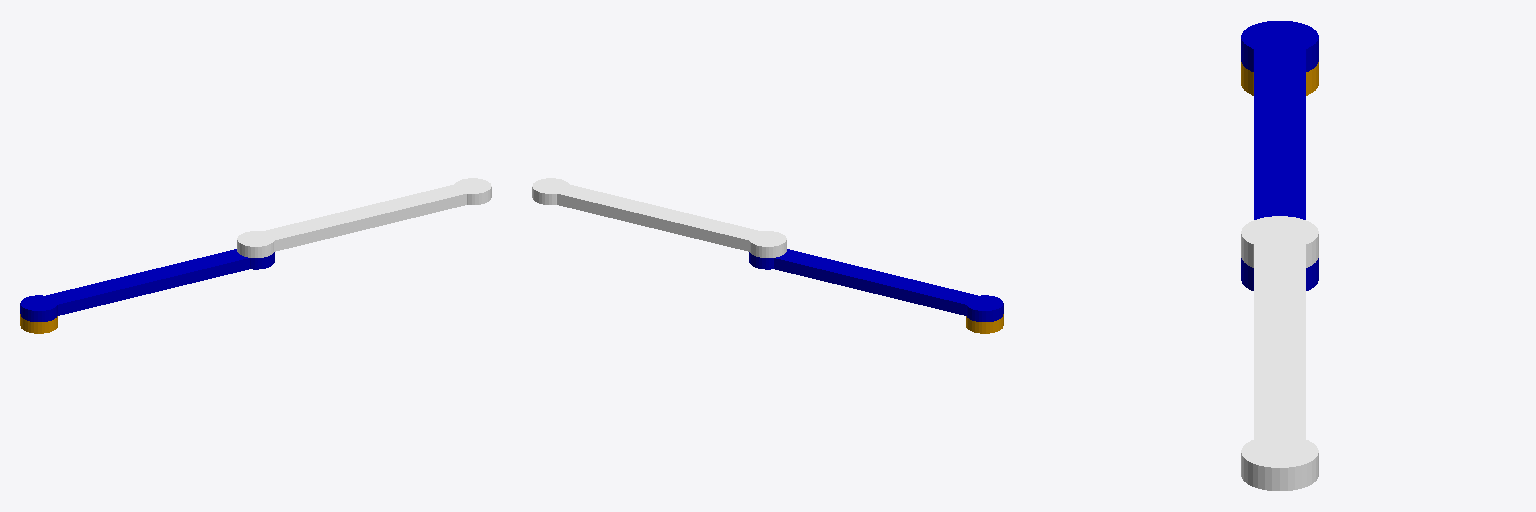
URDF robot description (TwoJointRobot):
<?xml version="1.0" ?>
<!-- =================================================================================== -->
<!-- |    This document was autogenerated by xacro from TwoJointRobot.xacro            | -->
<!-- |    EDITING THIS FILE BY HAND IS NOT RECOMMENDED                                 | -->
<!-- =================================================================================== -->
<robot name="TwoJointRobot" xmlns:xacro="http://www.ros.org/wiki/xacro">
  <material name="blue">
    <color rgba="0 0 0.8 1"/>
  </material>
  <material name="white">
    <color rgba="1 1 1 1"/>
  </material>
  <link name="base_link">
    <visual>
      <geometry>
        <cylinder length="0.05" radius="0.075"/>
      </geometry>
      <origin rpy="0 0 0" xyz="0 0 0.025"/>
    </visual>
    <collision>
      <geometry>
        <cylinder length="0.05" radius="0.075"/>
      </geometry>
      <origin rpy="0 0 0" xyz="0 0 0.025"/>
    </collision>
    <inertial>
      <mass value="0.2"/>
      <inertia ixx="0.000322916666667" ixy="0.0" ixz="0.0" iyy="0.000322916666667" iyz="0.0" izz="0.0005625"/>
    </inertial>
  </link>
  <link name="link_01_cyl">
    <visual>
      <geometry>
        <cylinder length="0.05" radius="0.075"/>
      </geometry>
      <origin rpy="0 0 0" xyz="0 0 0"/>
      <material name="blue"/>
    </visual>
    <collision>
      <geometry>
        <cylinder length="0.05" radius="0.075"/>
      </geometry>
      <origin rpy="0 0 0" xyz="0 0 0"/>
    </collision>
    <inertial>
      <mass value="0.2"/>
      <inertia ixx="0.000322916666667" ixy="0.0" ixz="0.0" iyy="0.000322916666667" iyz="0.0" izz="0.0005625"/>
    </inertial>
  </link>
  <link name="link_12_cyl">
    <visual>
      <geometry>
        <cylinder length="0.05" radius="0.075"/>
      </geometry>
      <origin rpy="0 0 0" xyz="0 0 0"/>
      <material name="blue"/>
    </visual>
    <collision>
      <geometry>
        <cylinder length="0.05" radius="0.075"/>
      </geometry>
      <origin rpy="0 0 0" xyz="0 0 0"/>
    </collision>
    <inertial>
      <mass value="0.2"/>
      <inertia ixx="0.000322916666667" ixy="0.0" ixz="0.0" iyy="0.000322916666667" iyz="0.0" izz="0.0005625"/>
    </inertial>
  </link>
  <link name="link_21_cyl">
    <visual>
      <geometry>
        <cylinder length="0.05" radius="0.075"/>
      </geometry>
      <origin rpy="0 0 0" xyz="0 0 0"/>
      <material name="white"/>
    </visual>
    <collision>
      <geometry>
        <cylinder length="0.05" radius="0.075"/>
      </geometry>
      <origin rpy="0 0 0" xyz="0 0 0"/>
    </collision>
    <inertial>
      <mass value="0.2"/>
      <inertia ixx="0.000322916666667" ixy="0.0" ixz="0.0" iyy="0.000322916666667" iyz="0.0" izz="0.0005625"/>
    </inertial>
  </link>
  <link name="link_23_cyl">
    <visual>
      <geometry>
        <cylinder length="0.05" radius="0.075"/>
      </geometry>
      <origin rpy="0 0 0" xyz="0 0 0"/>
      <material name="white"/>
    </visual>
    <collision>
      <geometry>
        <cylinder length="0.05" radius="0.075"/>
      </geometry>
      <origin rpy="0 0 0" xyz="0 0 0"/>
    </collision>
    <inertial>
      <mass value="0.2"/>
      <inertia ixx="0.000322916666667" ixy="0.0" ixz="0.0" iyy="0.000322916666667" iyz="0.0" izz="0.0005625"/>
    </inertial>
  </link>
  <link name="link_1">
    <visual>
      <geometry>
        <box size="1.0 0.1 0.05"/>
      </geometry>
      <origin rpy="0 0 0" xyz="0.5 0 0"/>
      <material name="blue"/>
    </visual>
    <collision>
      <geometry>
        <box size="1.0 0.1 0.05"/>
      </geometry>
      <origin rpy="0 0 0" xyz="0.5 0 0"/>
    </collision>
    <inertial>
      <mass value="0.5"/>
      <inertia ixx="0.00208333333333" ixy="0.0125" ixz="0.00625" iyy="0.167083333333" iyz="0.000625" izz="0.168333333333"/>
    </inertial>
  </link>
  <link name="link_2">
    <visual>
      <geometry>
        <box size="1.0 0.1 0.05"/>
      </geometry>
      <origin rpy="0 0 0" xyz="0.5 0 0"/>
      <material name="white"/>
    </visual>
    <collision>
      <geometry>
        <box size="1.0 0.1 0.05"/>
      </geometry>
      <origin rpy="0 0 0" xyz="0.5 0 0"/>
    </collision>
    <inertial>
      <mass value="0.5"/>
      <inertia ixx="0.00208333333333" ixy="0.0125" ixz="0.00625" iyy="0.167083333333" iyz="0.000625" izz="0.168333333333"/>
    </inertial>
  </link>
  <joint name="link_01" type="fixed">
    <origin rpy="0 0 0" xyz="0 0 0"/>
    <parent link="link_01_cyl"/>
    <child link="link_1"/>
  </joint>
  <joint name="link_12" type="fixed">
    <origin rpy="0 0 0" xyz="1.0 0 0"/>
    <parent link="link_1"/>
    <child link="link_12_cyl"/>
  </joint>
  <joint name="link_21" type="fixed">
    <origin rpy="0 0 0" xyz="0 0 0"/>
    <parent link="link_21_cyl"/>
    <child link="link_2"/>
  </joint>
  <joint name="link_23" type="fixed">
    <origin rpy="0 0 0" xyz="1.0 0 0"/>
    <parent link="link_2"/>
    <child link="link_23_cyl"/>
  </joint>
  <joint name="joint_1" type="revolute">
    <axis xyz="0 0 1"/>
    <limit effort="10000" lower="-3" upper="+3" velocity="5"/>
    <dynamics damping="0" friction="0"/>
    <origin rpy="0 0 0" xyz="0 0 0.075"/>
    <parent link="base_link"/>
    <child link="link_01_cyl"/>
  </joint>
  <joint name="joint_2" type="revolute">
    <axis xyz="0 0 1"/>
    <limit effort="10000" lower="-3" upper="+3" velocity="5"/>
    <dynamics damping="0" friction="0"/>
    <origin rpy="0 0 0" xyz="0.0 0. 0.05"/>
    <parent link="link_12_cyl"/>
    <child link="link_21_cyl"/>
  </joint>
</robot>


--- Render facts (derived) ---
The picture shows the robot from 3 angles, left to right: view 1: azimuth 30°, elevation 25°; view 2: azimuth 150°, elevation 25°; view 3: azimuth 270°, elevation 25°; orthographic projection.
Model TwoJointRobot with 7 links and 6 joints (2 revolute, 4 fixed), rooted at base_link, posed all joints at 0.
Visible links, largest first — view 1: link_2, link_1, link_01_cyl, link_21_cyl, link_23_cyl; view 2: link_2, link_1, link_01_cyl, link_21_cyl, link_23_cyl; view 3: link_2, link_1, link_23_cyl, link_01_cyl, link_21_cyl, base_link, link_12_cyl.
Link boxes in pixels (<box>): link_2: <box>250,183,478,251</box>; link_1: <box>41,249,249,315</box>; link_01_cyl: <box>20,295,57,321</box>; link_21_cyl: <box>237,231,273,257</box>; link_23_cyl: <box>454,178,491,204</box>; link_2: <box>545,184,773,251</box>; link_1: <box>774,249,981,315</box>; link_01_cyl: <box>966,295,1003,321</box>; link_21_cyl: <box>750,231,786,257</box>; link_23_cyl: <box>532,178,569,204</box>; link_2: <box>1254,233,1305,451</box>; link_1: <box>1254,37,1305,219</box>; link_23_cyl: <box>1241,435,1318,490</box>; link_01_cyl: <box>1241,21,1318,71</box>; link_21_cyl: <box>1241,216,1318,267</box>; base_link: <box>1241,62,1318,95</box>; link_12_cyl: <box>1241,258,1318,290</box>.
Size in the robot's own frame: 2.15 by 0.15 by 0.15 metres.
Geometry: primitives only (box / cylinder / sphere), no mesh files.